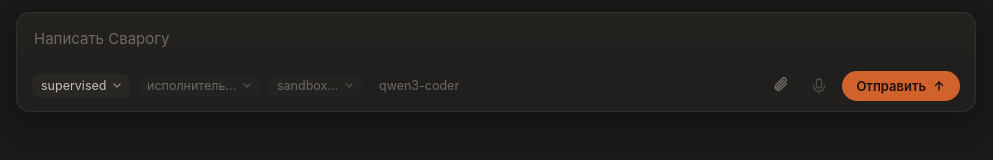
Test: поле ввода › поле ввода — комбобокс со ссылкой на список подсказок, а не голый textbox
Type "@sr" into the dropdown labelled "Написать Сварогу" at (496, 39), box [32,26,960,52]
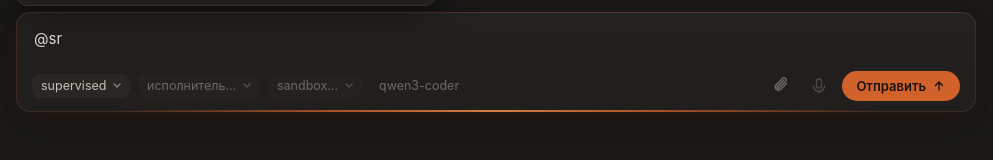
Now the dropdown named "Написать Сварогу" is expanded, box [32,26,960,52]
